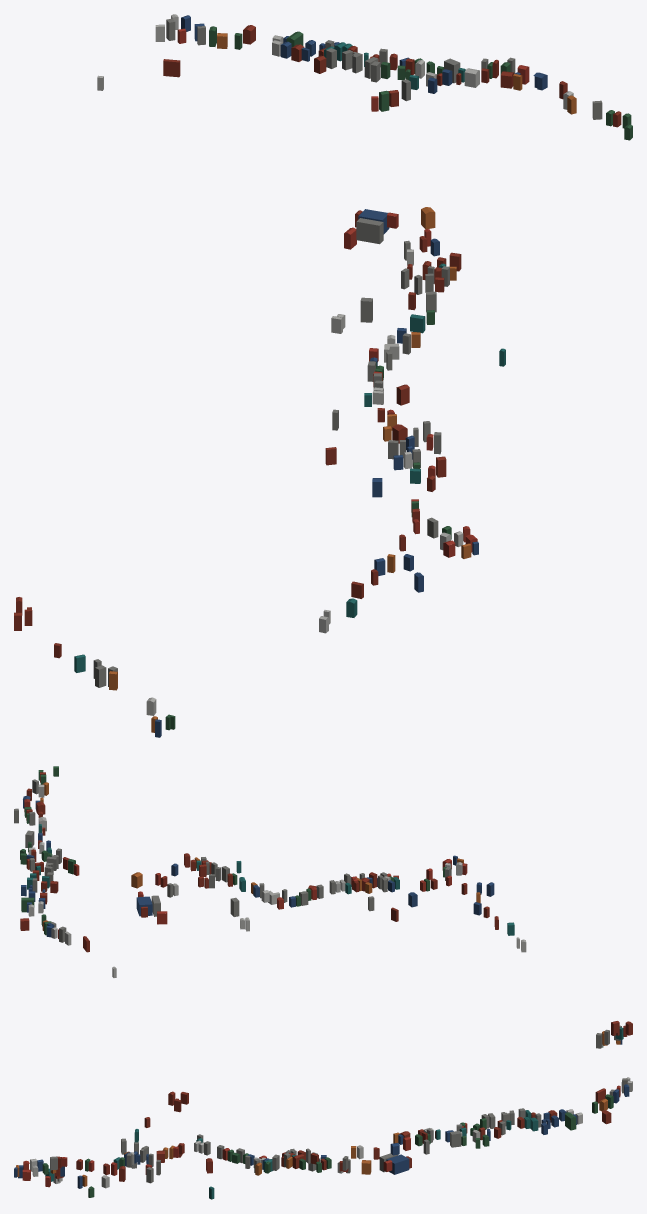
Rendered from near-15-27367-14872.08e77890.glb.
3 renders of one model, top to bottom at view 1: azimuth 30°, elevation 25°; view 2: azimuth 150°, elevation 25°; view 3: azimuth 270°, elevation 25°, orthographic. The views are drawn at different scales.
Size of the model in its own units: 1053 by 506 by 1092.
